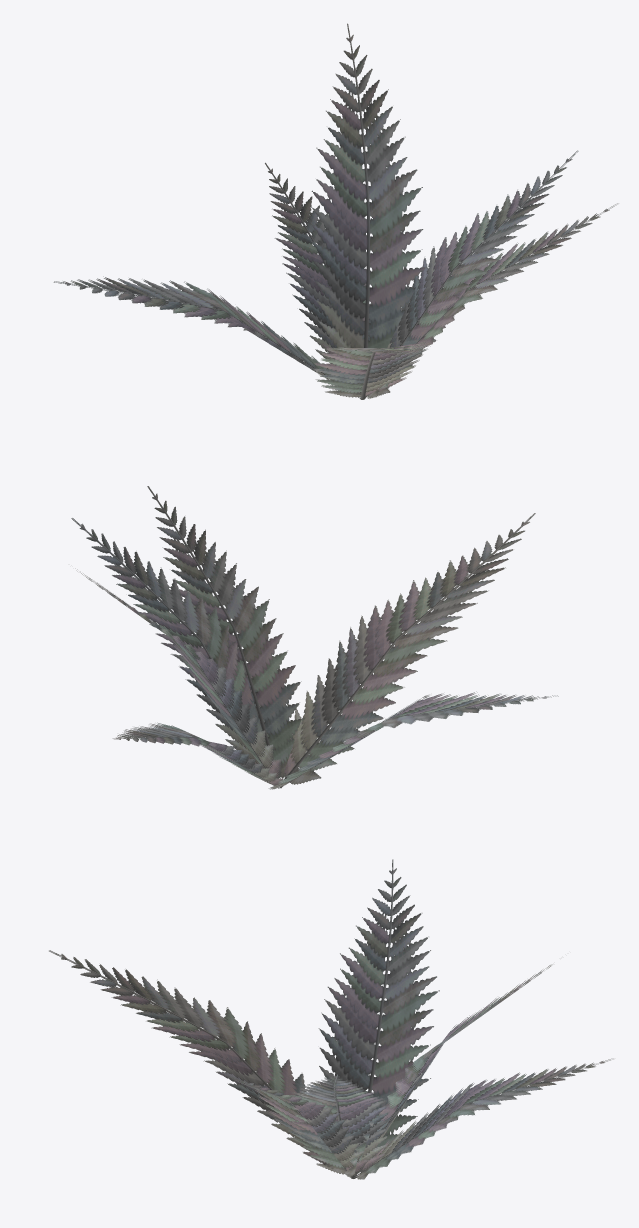
The model's file is fern_a_l1.gltf.
3 renders of one model, top to bottom at view 1: azimuth 30°, elevation 25°; view 2: azimuth 150°, elevation 25°; view 3: azimuth 270°, elevation 25°, orthographic. The views are drawn at different scales.
Visible parts, largest first — view 1: fern_a_l1; view 2: fern_a_l1; view 3: fern_a_l1.
Boxes of the visible parts, left/top/right/bottom form: fern_a_l1: left=53, top=23, right=618, bottom=399; fern_a_l1: left=71, top=486, right=558, bottom=789; fern_a_l1: left=49, top=859, right=613, bottom=1179.
Size of the model in its own units: 1.95 by 0.9894 by 1.93.
1 material, 1 textured.
